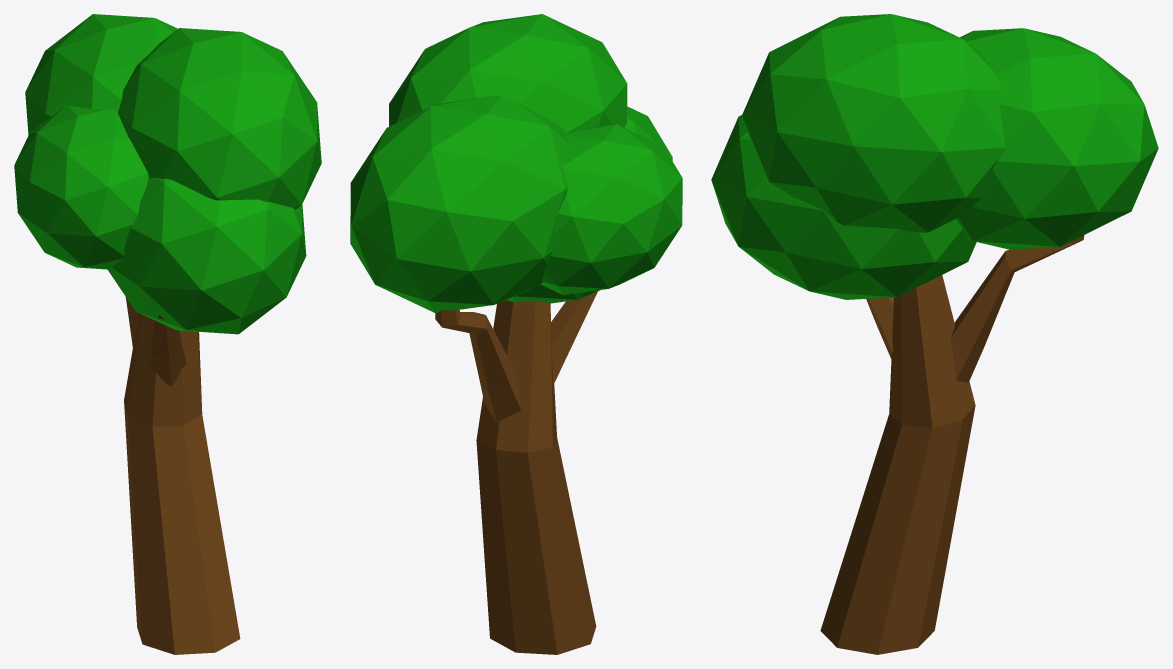
The model's file is Tree1.fbx.
3 views of the same model, side by side, from view 1: azimuth 30°, elevation 25°; view 2: azimuth 150°, elevation 25°; view 3: azimuth 270°, elevation 25° (orthographic). The views are drawn at different scales.
Visible parts, largest first — view 1: Tree.001; view 2: Tree.001; view 3: Tree.001.
Boxes of the visible parts, box(x1,y1,x2,y2) form: Tree.001: box(14, 14, 321, 654); Tree.001: box(350, 14, 682, 654); Tree.001: box(711, 14, 1158, 654).
Bounding box in the file's own units: 558 × 1203 × 783.
